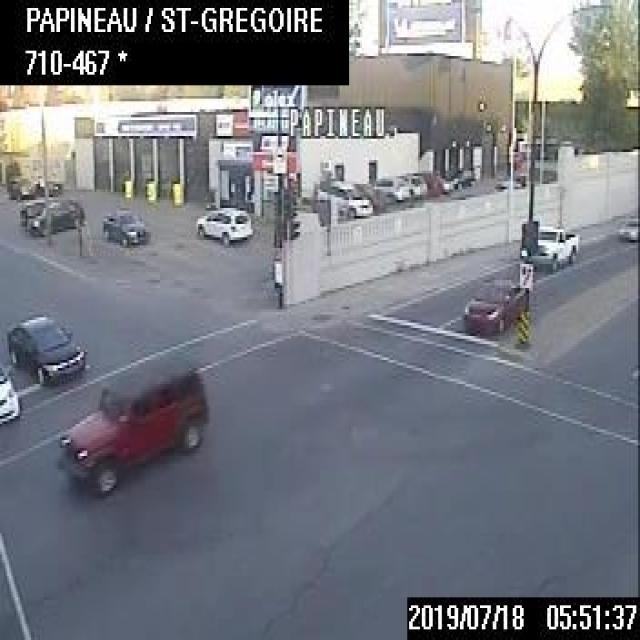vehicle: (51, 356, 206, 494), (5, 312, 84, 387), (462, 274, 531, 330), (192, 198, 253, 246), (310, 173, 374, 217), (27, 193, 85, 234), (99, 204, 151, 248), (535, 224, 580, 269), (0, 362, 24, 427), (369, 173, 410, 205), (448, 165, 477, 188), (616, 211, 638, 240), (413, 169, 439, 193), (432, 172, 451, 190), (407, 174, 423, 195)
